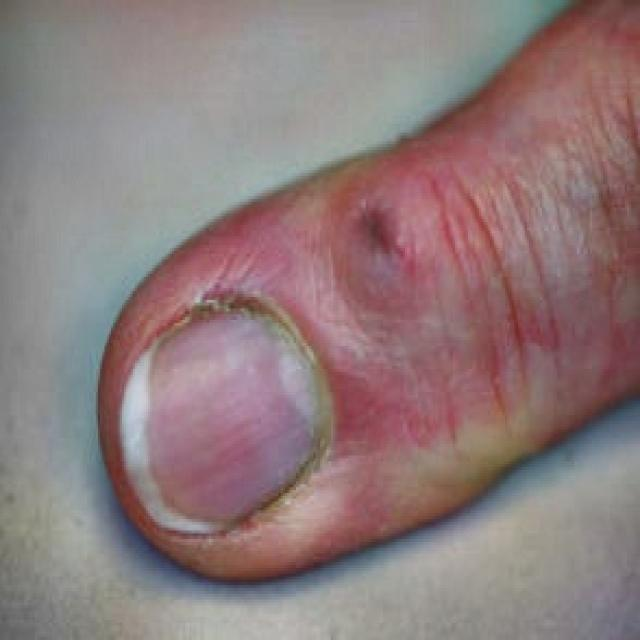Seborrheic-Keratoses-and-other-Benign-Tumors: (267, 202, 556, 362)
